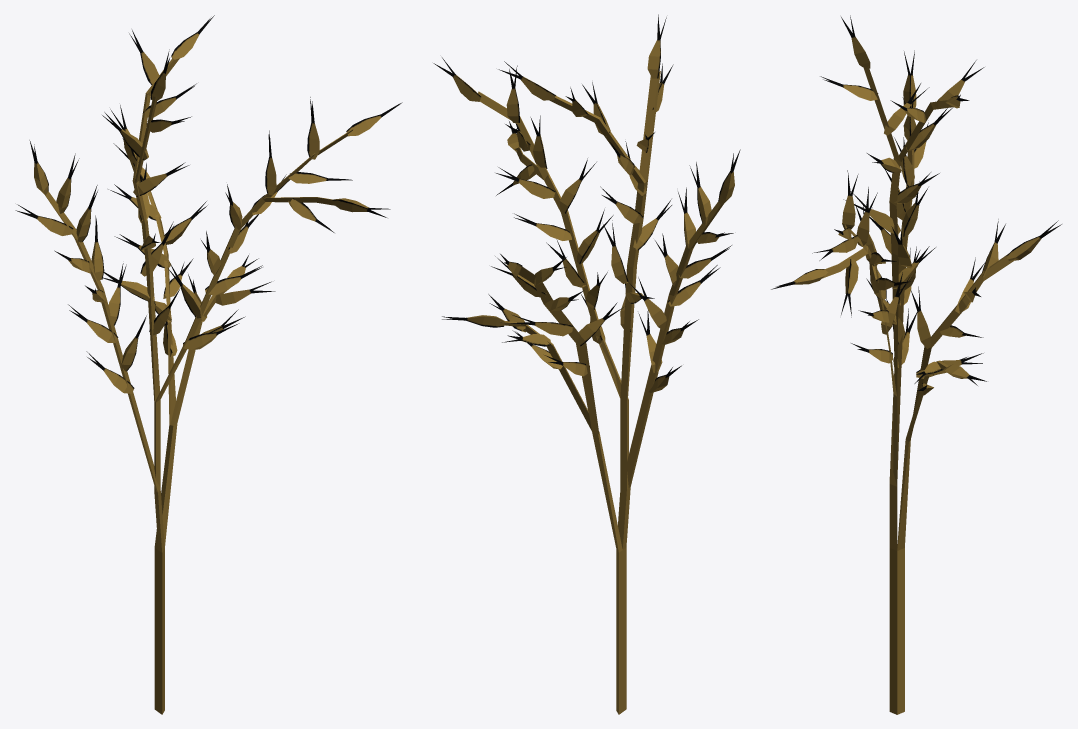
The model's file is heina.fbx.
3 views of the same model, side by side, from view 1: azimuth 30°, elevation 25°; view 2: azimuth 150°, elevation 25°; view 3: azimuth 270°, elevation 25° (orthographic).
Parts seen in each view (by area): view 1: Heina; view 2: Heina; view 3: Heina.
Boxes of the visible parts, left/top/right/bottom form: Heina: left=15, top=15, right=402, bottom=714; Heina: left=433, top=14, right=740, bottom=714; Heina: left=771, top=15, right=1061, bottom=714.
Bounding box in the file's own units: 0.8626 × 1.63 × 0.6279.
2 materials, 1 textured.
